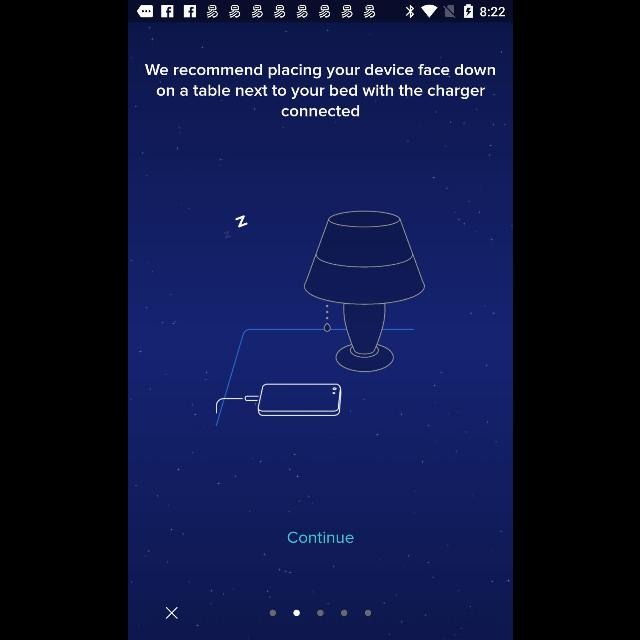icon: (165, 607, 178, 619)
image: (213, 210, 424, 426)
pageindicator: (268, 609, 372, 617)
text: (143, 64, 495, 118), (286, 530, 354, 544)
uppertaskbar: (128, 1, 512, 23)
